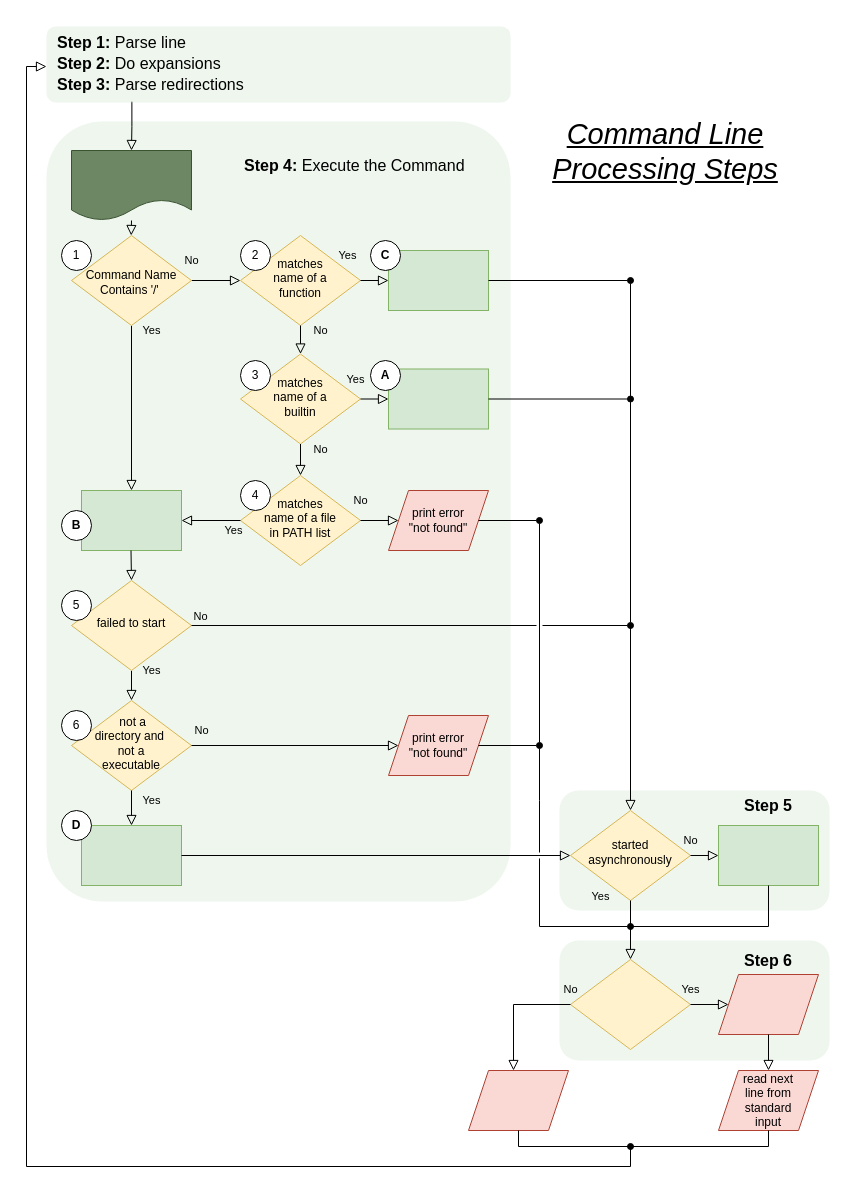
Image size: 847x1194. Some labels were removed from this diagram. Here are the shapes that lost their labels. From the top down, the centre of each, then its label:
pixel 131 185: 1. Command Name 2. Arguments 3. Redirections
pixel 438 280: execute function
pixel 438 398: execute builtin
pixel 131 520: request kernel to execute as external command
pixel 131 855: execute as a shell script
pixel 768 855: wait for command to exit and gather exit status
pixel 630 1004: If Interactive
pixel 768 1004: print prompt
pixel 518 1100: read next line from script file
